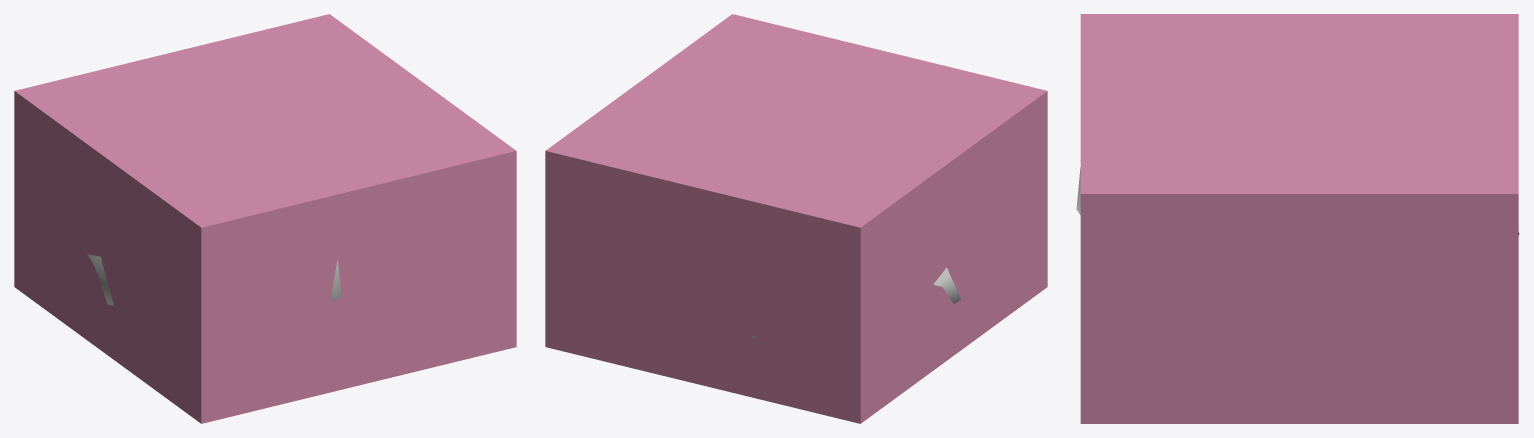
The model's file is utah_rock_big_c.dae.
3 views of the same model, side by side, from view 1: azimuth 30°, elevation 25°; view 2: azimuth 150°, elevation 25°; view 3: azimuth 270°, elevation 25° (orthographic). The views are drawn at different scales.
Parts seen in each view (by area): view 1: Untitled, tree_oak_bush_a30; view 2: Untitled; view 3: Untitled.
Part boxes in pixels (left/top/right/bottom): Untitled: left=14, top=14, right=516, bottom=423; tree_oak_bush_a30: left=88, top=255, right=341, bottom=305; Untitled: left=545, top=14, right=1047, bottom=423; Untitled: left=1080, top=14, right=1518, bottom=423.
Bounding box in the file's own units: 1.96 × 2 × 1.17.
